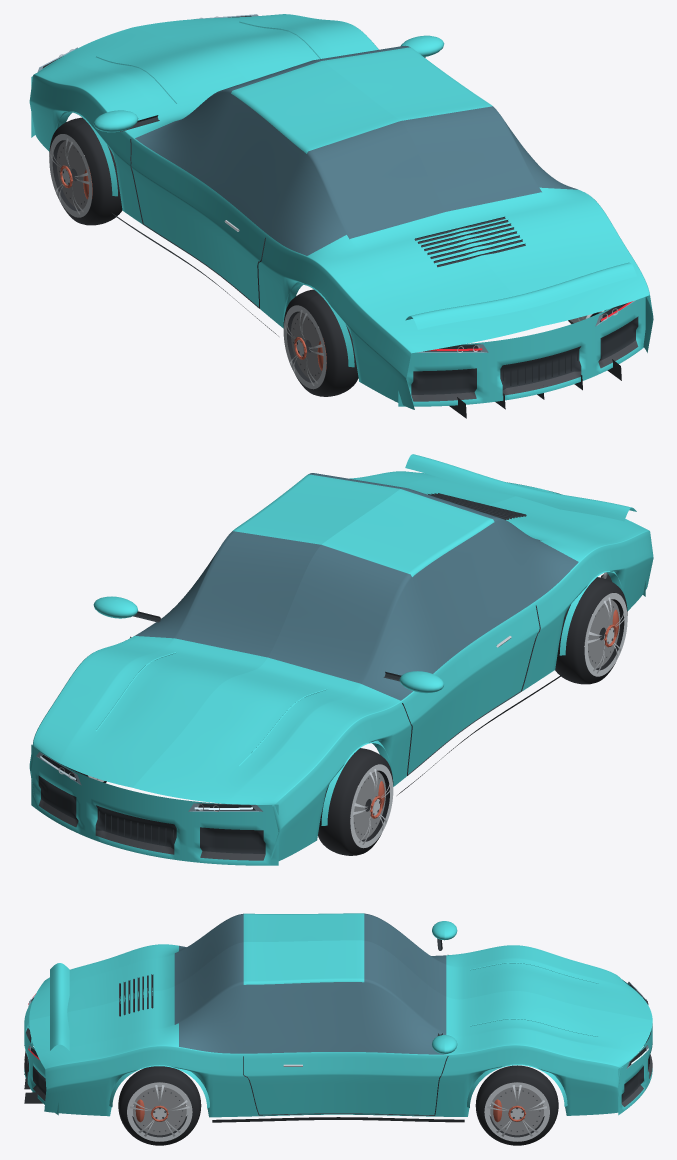
The model's file is tempest_gt.glb.
The picture shows the model from 3 angles, top to bottom: view 1: azimuth 30°, elevation 25°; view 2: azimuth 150°, elevation 25°; view 3: azimuth 270°, elevation 25°; orthographic projection. The views are drawn at different scales.
Visible parts, largest first — view 1: Body, Wheel_2, Wheel_0; view 2: Body, Wheel_0, Wheel_2; view 3: Body, Wheel_1, Wheel_3.
Part boxes in pixels (x1,y1,x2,y2): Body: [29, 14, 653, 418]; Wheel_2: [283, 289, 358, 396]; Wheel_0: [49, 117, 122, 225]; Body: [29, 454, 653, 865]; Wheel_0: [318, 748, 393, 855]; Wheel_2: [555, 577, 627, 684]; Body: [24, 913, 652, 1122]; Wheel_1: [475, 1065, 558, 1145]; Wheel_3: [118, 1066, 201, 1145].
Bounding box in the file's own units: 2.51 × 1.39 × 5.32.
